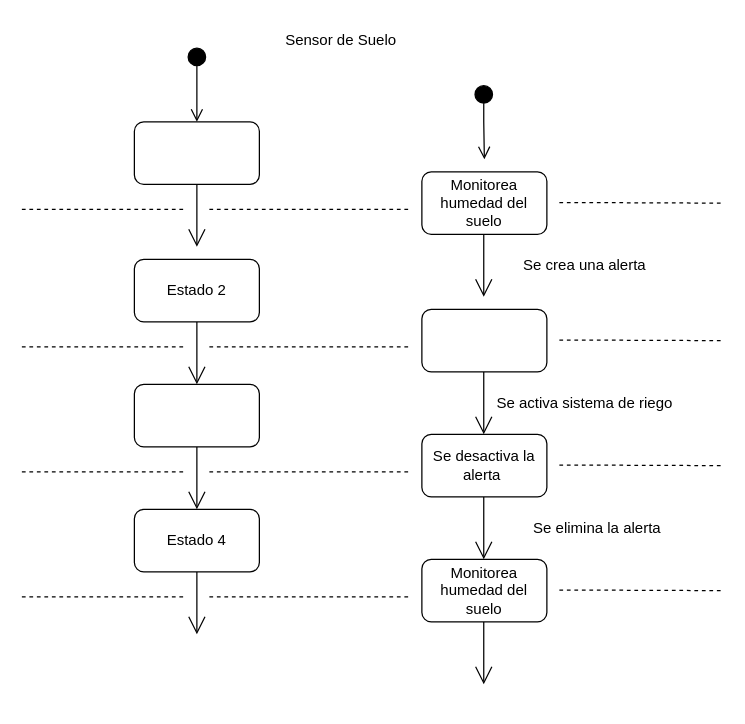
The diagram is 745 pixels wide and 724 high, and some of its shapes have lost their labels. Each missing label, with the centre of its shape:
"Estado 1" belongs at (196,152).
"Estado 3" belongs at (196,415).
"Se activa la alerta" belongs at (484,340).
